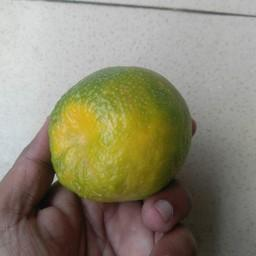Good_orange: (45, 64, 191, 204)
